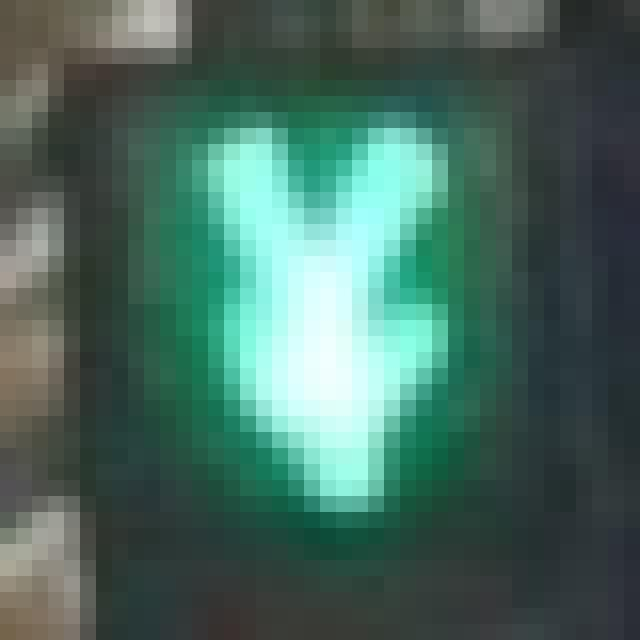geen-crossing: (144, 80, 448, 512)
